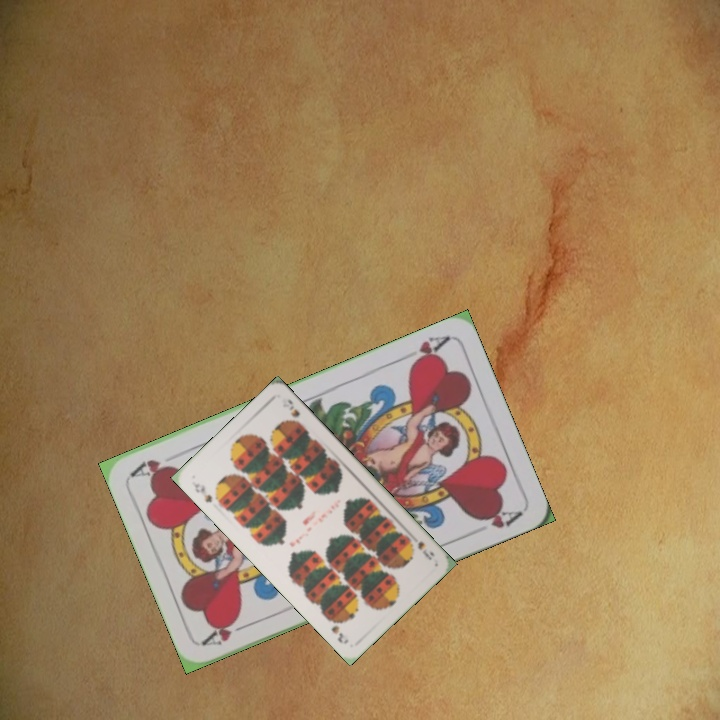HA: (396, 331, 452, 371), (199, 614, 256, 649)
S9: (188, 477, 215, 505), (414, 537, 438, 563)
